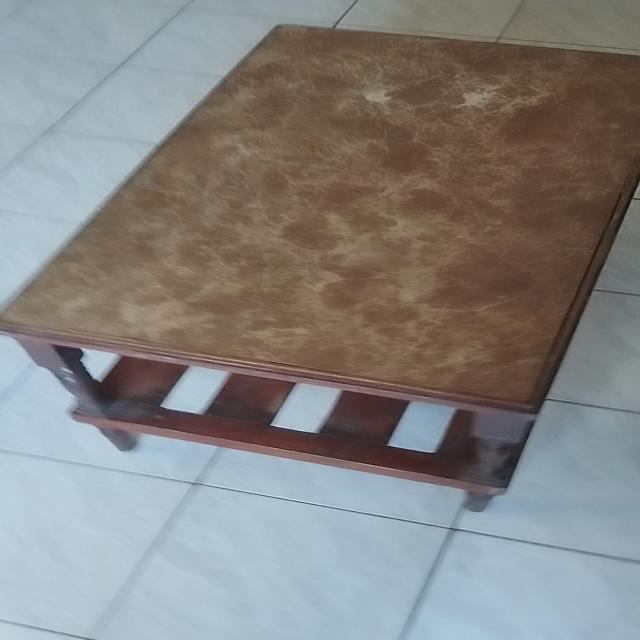table: (0, 22, 640, 516)
